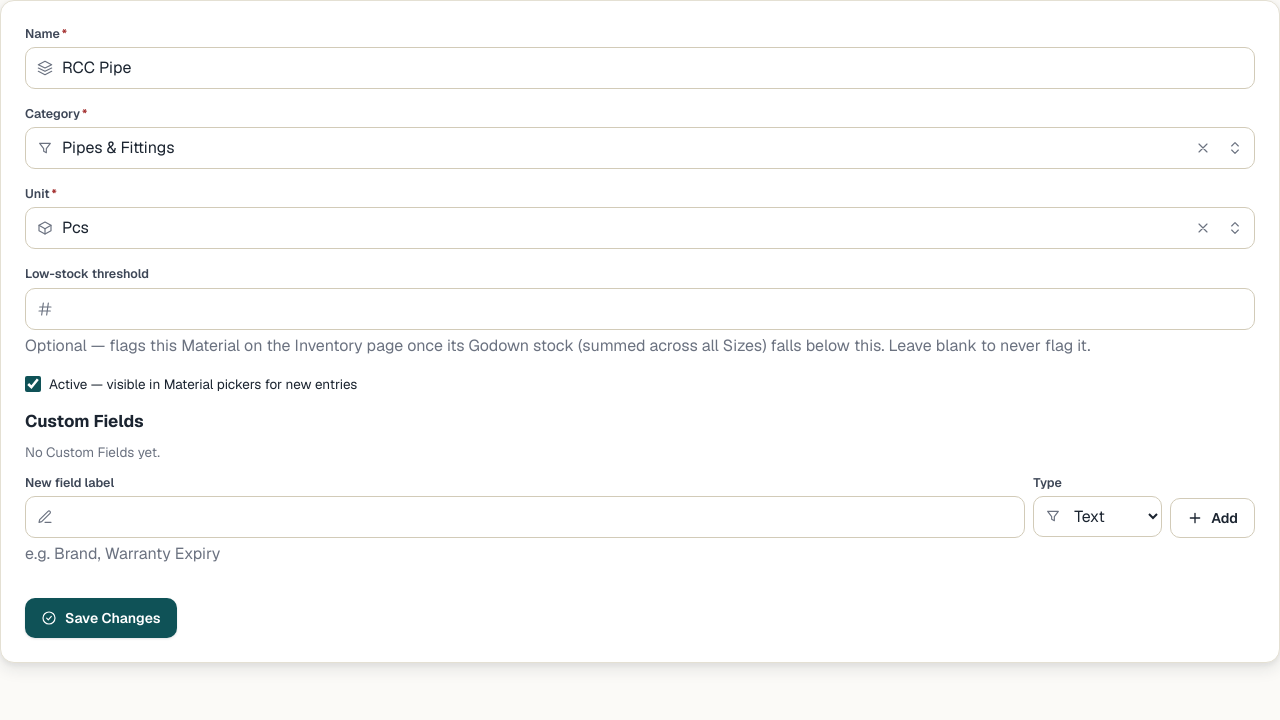
Scenario: EditMaterialForm › adding a Custom Field updates the visible list and the submitted hidden field
In the field labelled "New field label": (525, 517) left=25, top=496, right=1025, bottom=538, type "Warranty Expiry"
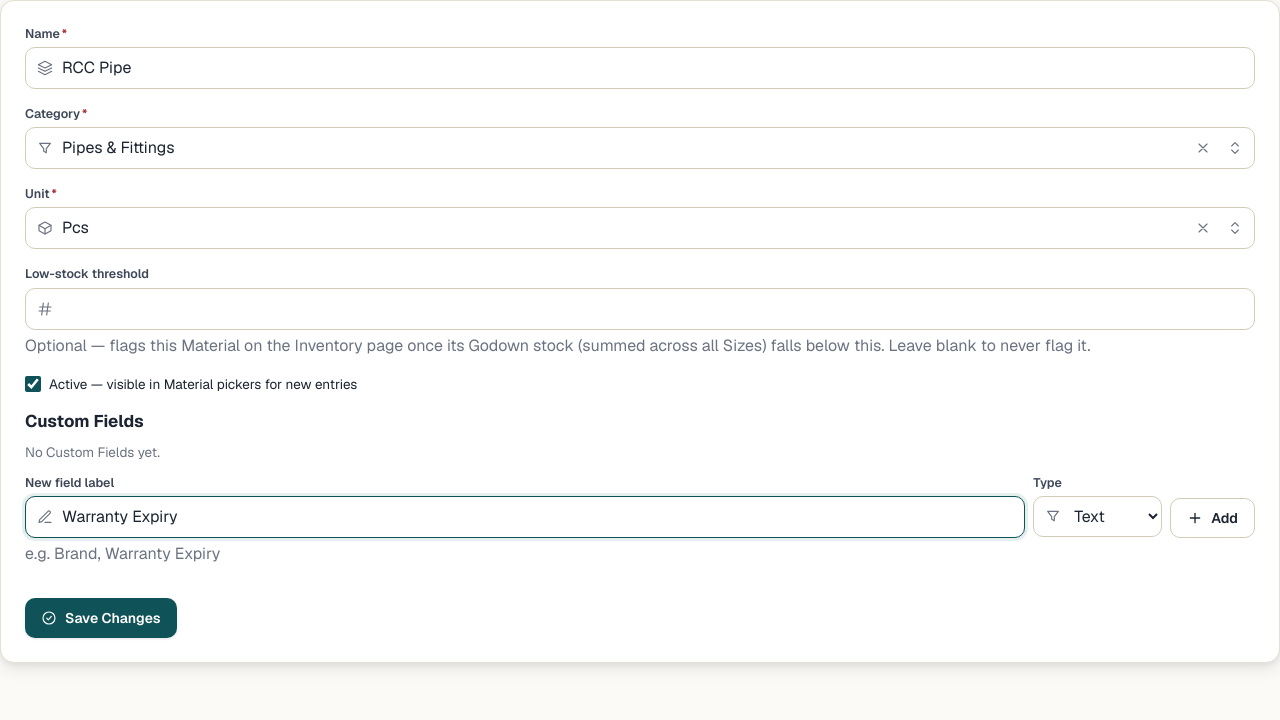
Select "Date" in the dropdown labelled "Type": (1098, 516) left=1033, top=496, right=1162, bottom=537
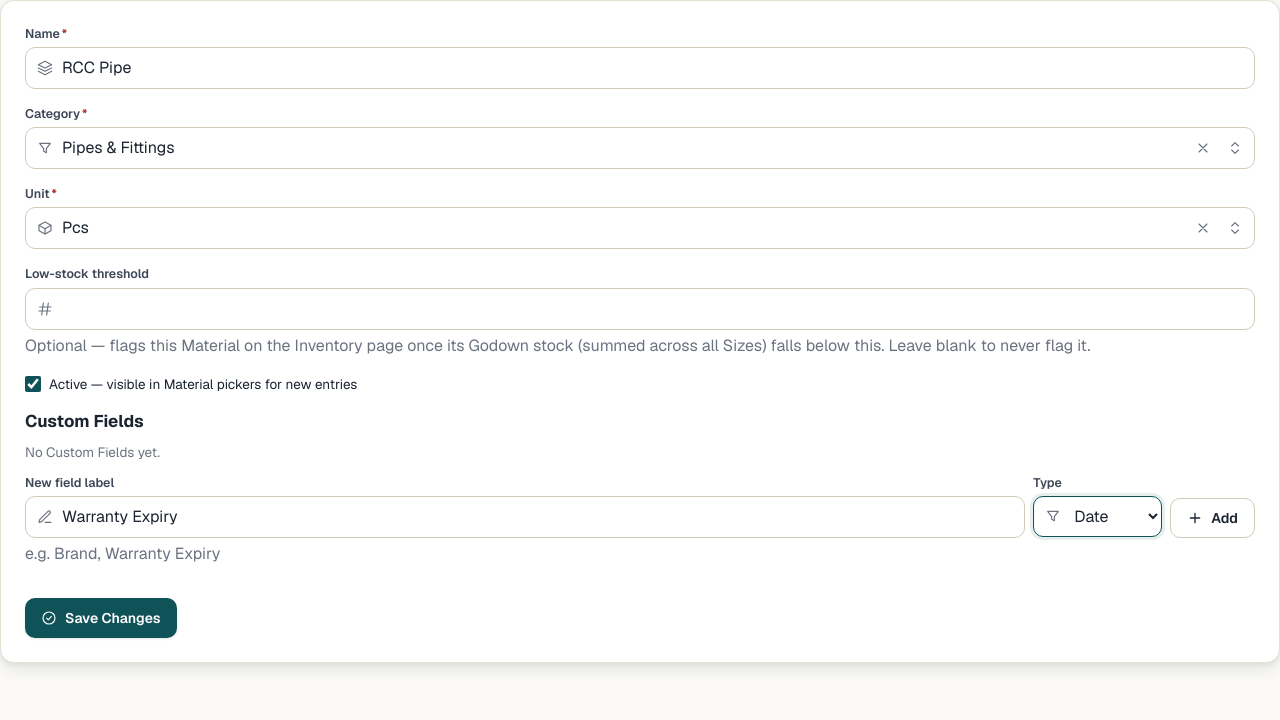
Click the button "Add": (1213, 518) left=1170, top=498, right=1255, bottom=538
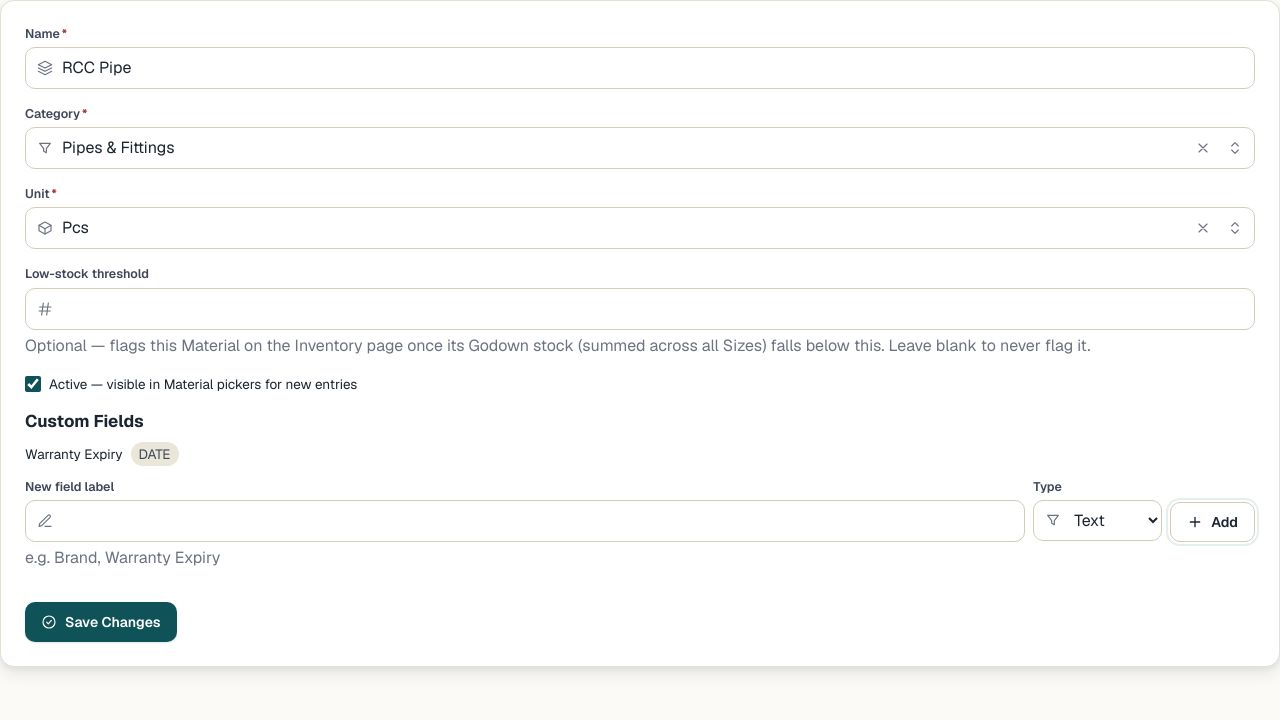
Expected: the list item "Warranty Expiry" is shown, left=25, top=444, right=122, bottom=462
Expected: the text "DATE" is shown, left=130, top=442, right=178, bottom=466
